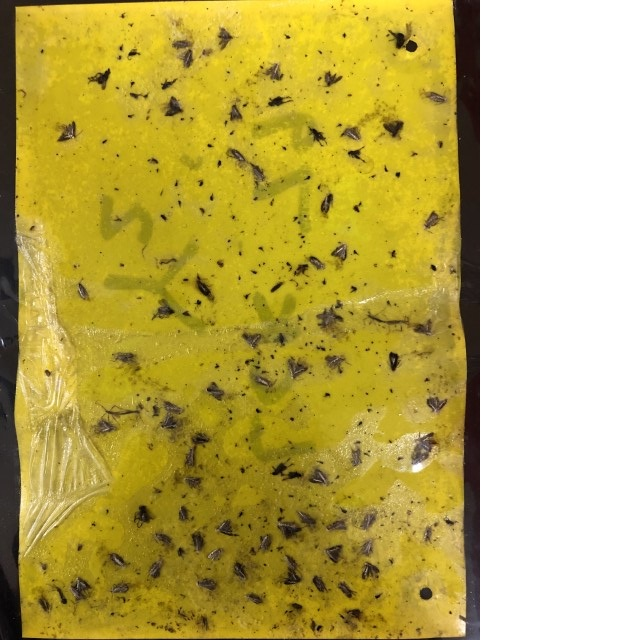DBM: (314, 304, 346, 331), (284, 357, 312, 382), (275, 519, 305, 542), (55, 120, 82, 145), (213, 516, 240, 539), (322, 352, 350, 374), (421, 210, 447, 233), (425, 394, 449, 418), (281, 566, 304, 590), (238, 329, 263, 351), (204, 379, 226, 404), (321, 543, 347, 564), (411, 319, 436, 339), (145, 556, 165, 581), (329, 242, 351, 264), (425, 89, 449, 109), (362, 559, 382, 583), (336, 579, 359, 599), (156, 413, 180, 432), (108, 578, 132, 597), (254, 374, 279, 392), (357, 511, 378, 532), (107, 549, 128, 570), (295, 509, 322, 525), (152, 530, 176, 548), (194, 576, 218, 594), (318, 192, 335, 217), (305, 253, 327, 272), (193, 277, 212, 299), (242, 590, 266, 607), (175, 502, 194, 523), (310, 572, 329, 593), (247, 163, 266, 183), (308, 468, 328, 487), (92, 420, 117, 435), (266, 60, 283, 82), (358, 535, 375, 557), (232, 561, 249, 583), (75, 279, 91, 302), (256, 532, 273, 553), (190, 531, 205, 554), (179, 49, 196, 68), (162, 400, 185, 414), (183, 444, 197, 467), (341, 126, 362, 141), (227, 146, 246, 162), (73, 576, 90, 593), (192, 433, 214, 446), (183, 475, 202, 490), (206, 547, 225, 562), (349, 447, 363, 467), (413, 439, 434, 452), (170, 38, 191, 49)
